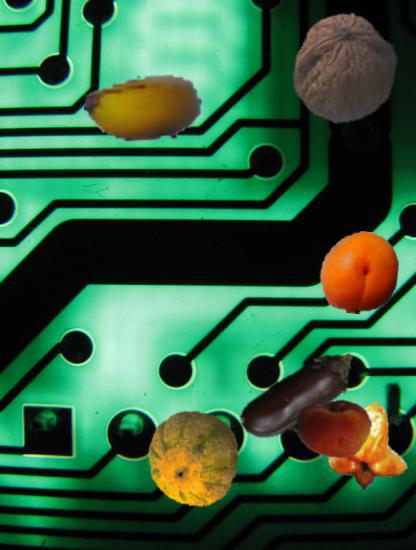Apricot: (318, 231, 401, 314)
Banana: (84, 49, 203, 168)
Cantaloupe: (145, 410, 242, 507)
Carambula: (317, 399, 411, 493)
Eggplant: (232, 328, 367, 463)
Nectarine: (295, 391, 373, 469)
Walnut: (289, 12, 402, 125)
